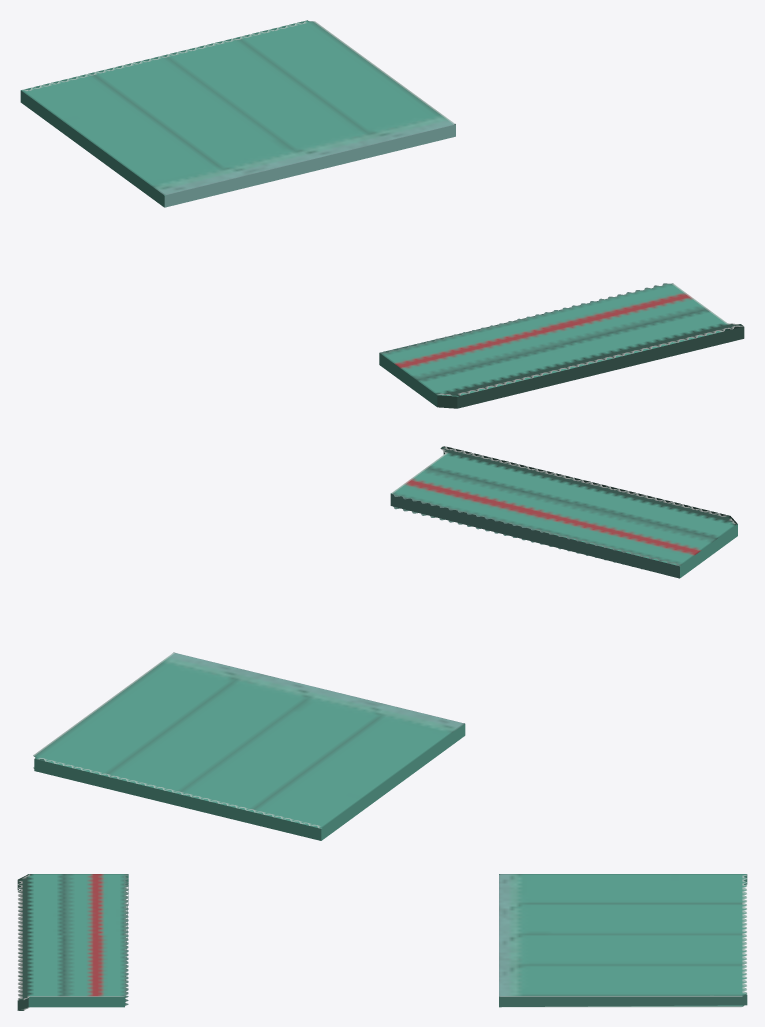
The model's file is pz_native_location_restaurant_diner_01_12_frame.obj.
3 renders of one model, top to bottom at view 1: azimuth 30°, elevation 25°; view 2: azimuth 150°, elevation 25°; view 3: azimuth 270°, elevation 25°, orthographic. The views are drawn at different scales.
Parts seen in each view (by area): view 1: pz_native_location_restaurant_diner_01_12_frame; view 2: pz_native_location_restaurant_diner_01_12_frame; view 3: pz_native_location_restaurant_diner_01_12_frame.
Boxes of the visible parts, x1,y1,x2,y2 form: pz_native_location_restaurant_diner_01_12_frame: [20, 20, 744, 408]; pz_native_location_restaurant_diner_01_12_frame: [33, 446, 737, 840]; pz_native_location_restaurant_diner_01_12_frame: [17, 874, 747, 1010].
Size of the model in its own units: 1.06 by 0.04 by 2.54.
Materials: 1 (1 with a texture image).
